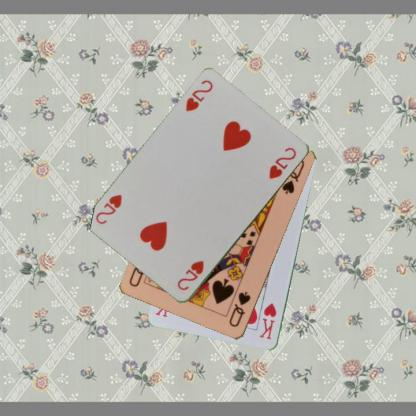2h: (174, 258, 206, 292), (183, 78, 214, 113)
Kh: (256, 300, 278, 341)
Qs: (226, 289, 252, 329)
